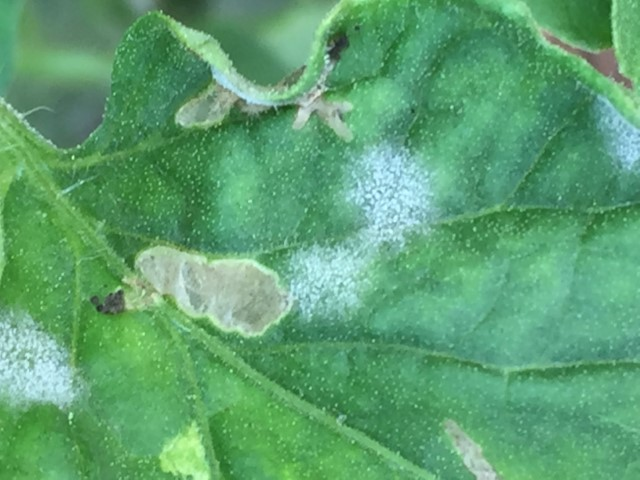oidio: (1, 312, 94, 417), (343, 138, 434, 243), (288, 242, 384, 323), (594, 93, 640, 176)
